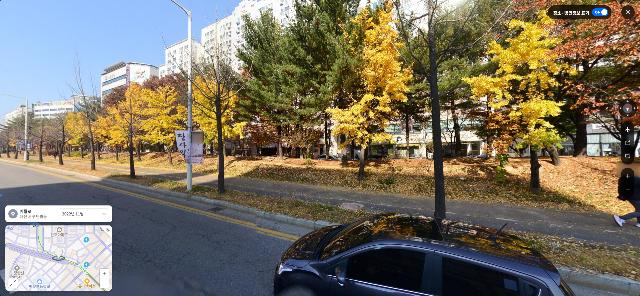ginkgo: (461, 17, 577, 193), (324, 0, 413, 181), (89, 81, 183, 179), (164, 59, 250, 163)
other: (328, 0, 541, 221), (135, 0, 292, 194), (484, 0, 640, 159), (236, 0, 363, 160), (52, 46, 108, 170), (42, 96, 77, 165), (28, 115, 55, 163)
